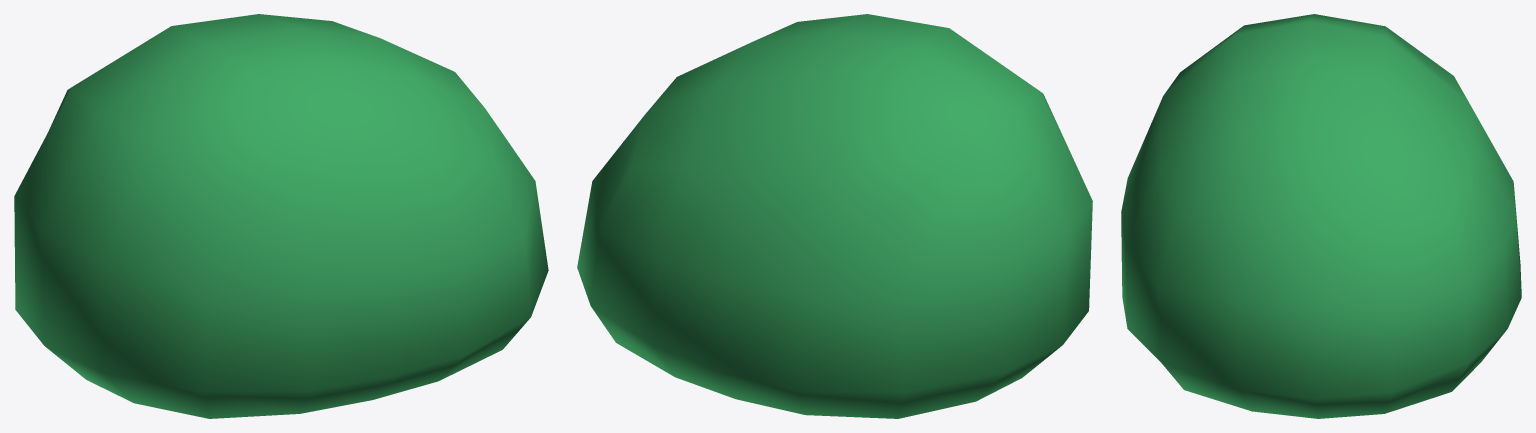
The model's file is Bush_D_02_LOD2.gltf.
3 renders of one model, left to right at view 1: azimuth 30°, elevation 25°; view 2: azimuth 150°, elevation 25°; view 3: azimuth 270°, elevation 25°, orthographic. The views are drawn at different scales.
Visible parts, largest first — view 1: Bush_D_02_LOD2_Cube.656; view 2: Bush_D_02_LOD2_Cube.656; view 3: Bush_D_02_LOD2_Cube.656.
Boxes of the visible parts, <box> form: Bush_D_02_LOD2_Cube.656: <box>14,14,548,418</box>; Bush_D_02_LOD2_Cube.656: <box>577,14,1092,418</box>; Bush_D_02_LOD2_Cube.656: <box>1121,14,1521,418</box>.
Bounding box in the file's own units: 5.09 × 3.29 × 4.14.
Materials: 1 (1 with a texture image).
